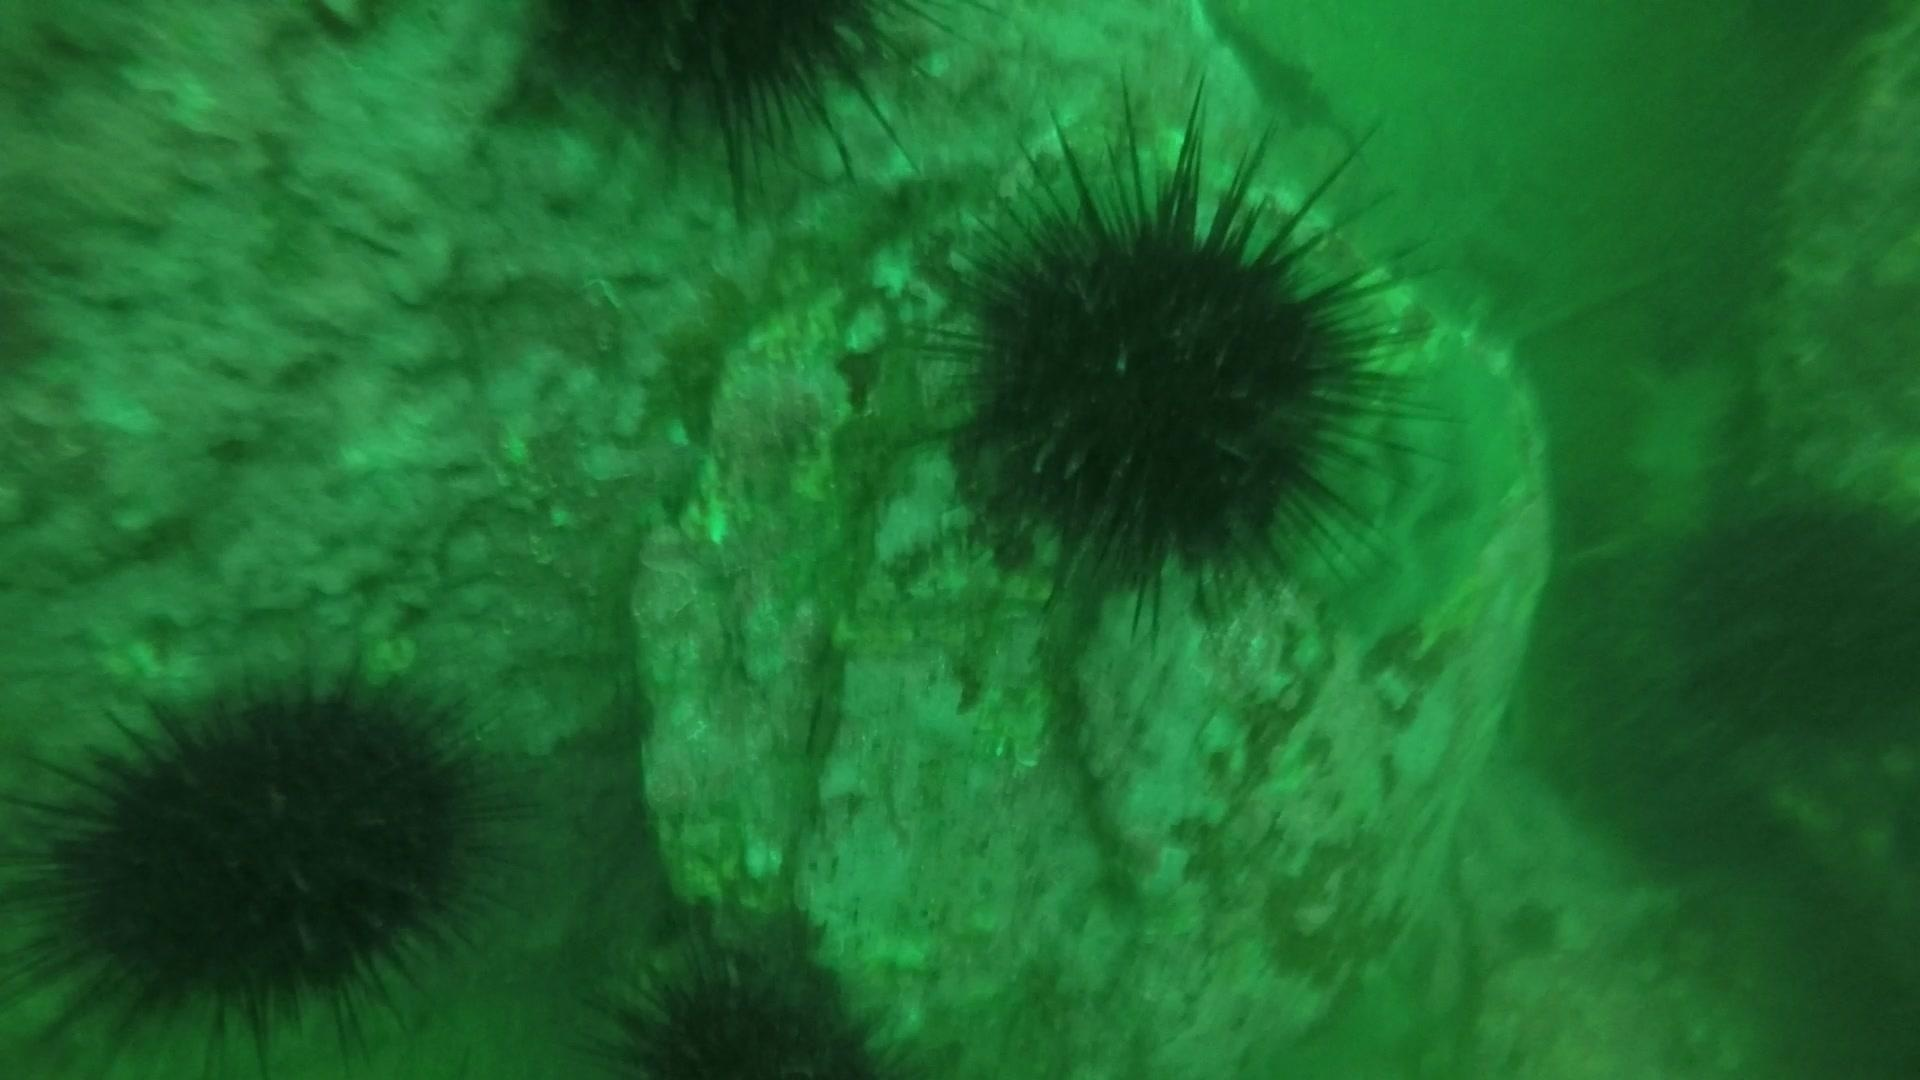echinus: (931, 105, 1424, 632), (3, 647, 521, 1065), (496, 4, 949, 193), (1663, 473, 1920, 752), (574, 895, 906, 1076)
